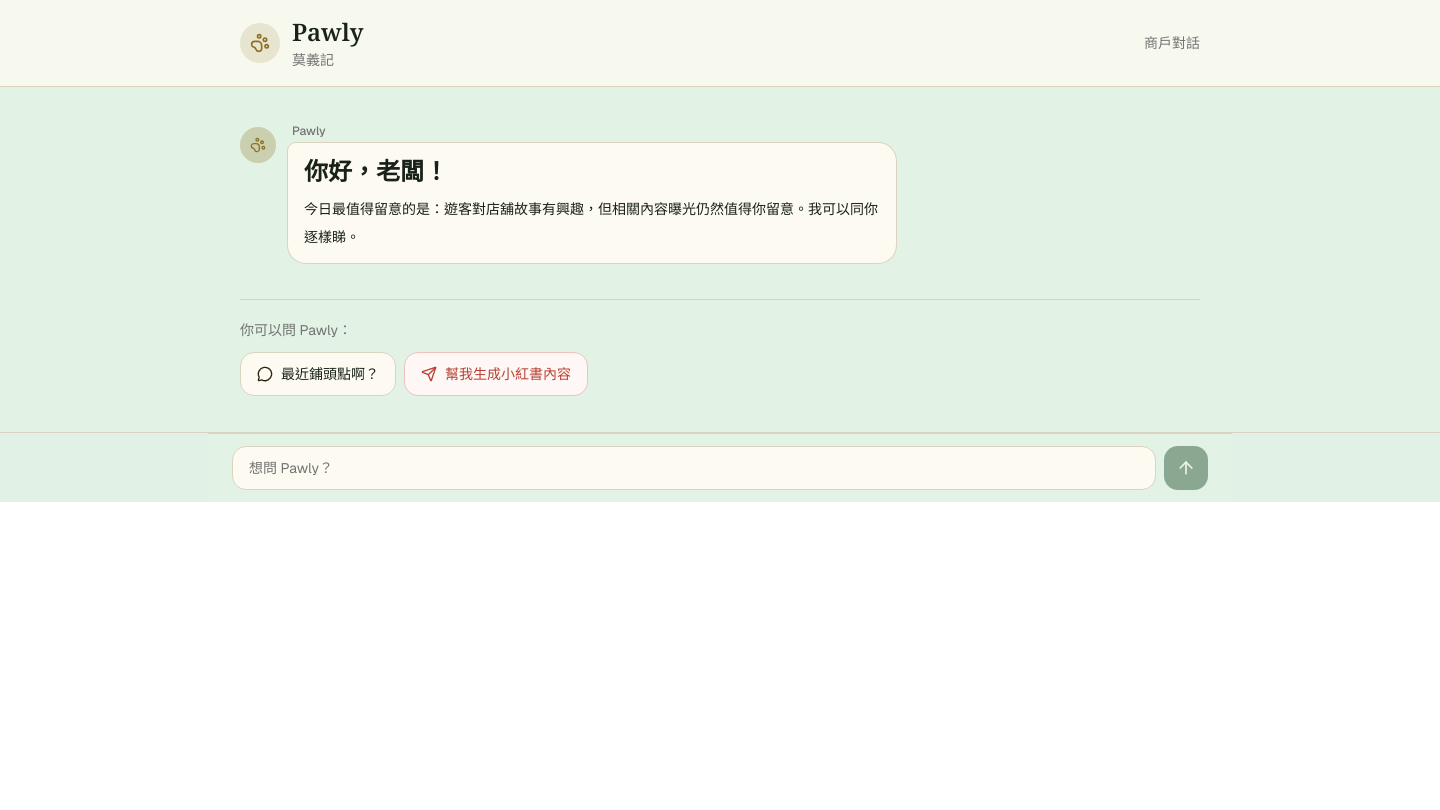
Merchant Pawly publication flow › hides one-click publishing until the workflow marks the story publishable
Click the button "幫我生成小紅書內容". click: (496, 374)
box: top-left (404, 352), bottom-right (588, 396)
Wait 650 ms
(page scrolled)
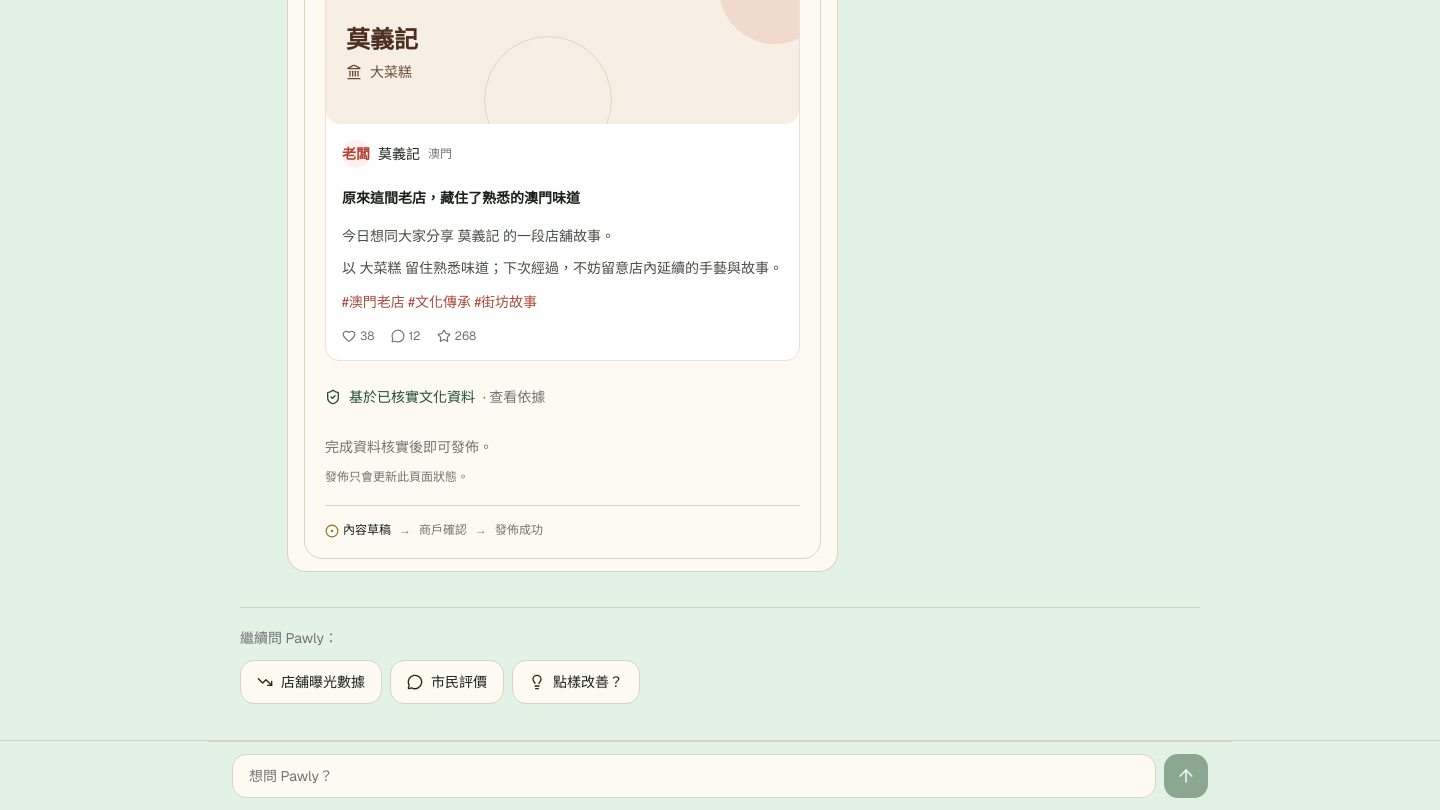
Now the text "完成資料核實後即可發佈。" is shown, box top-left (325, 437), bottom-right (493, 457)
